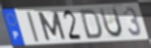2: (62, 9, 83, 42)
3: (122, 6, 143, 38)
D: (79, 8, 104, 40)
I: (25, 10, 41, 43)
M: (36, 10, 68, 42)
U: (97, 6, 124, 40)
